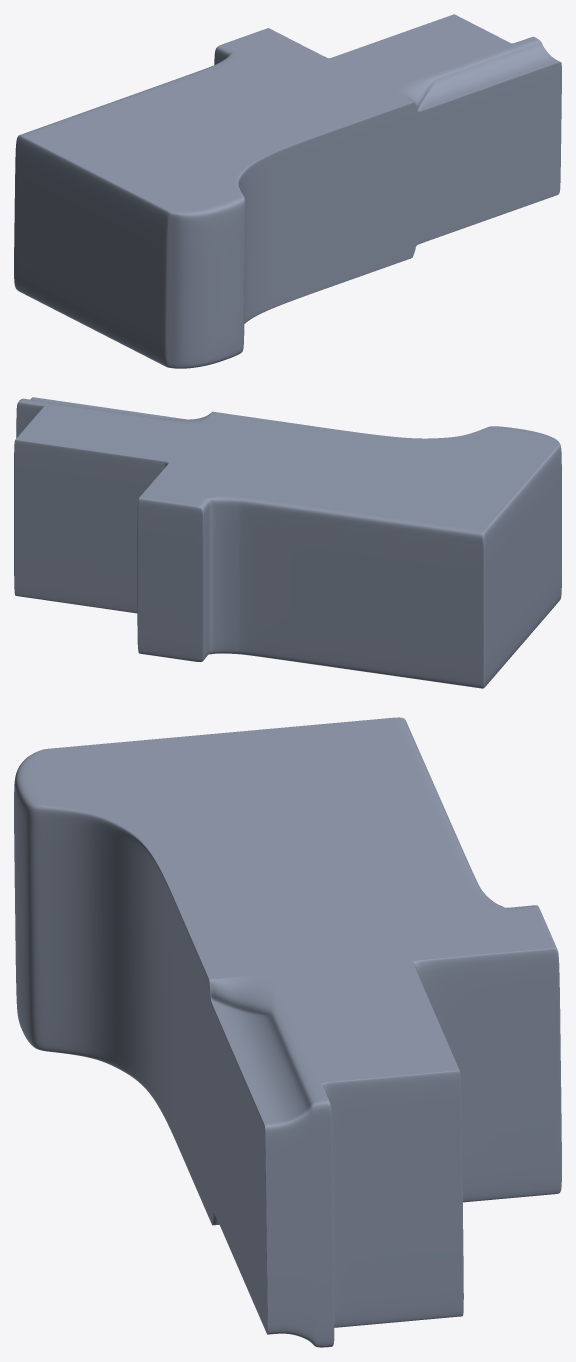
The picture shows the model from 3 angles, top to bottom: view 1: azimuth 30°, elevation 25°; view 2: azimuth 150°, elevation 25°; view 3: azimuth 270°, elevation 25°; orthographic projection. The views are drawn at different scales.
Visible parts, largest first — view 1: Cube.033; view 2: Cube.033; view 3: Cube.033.
Part boxes in pixels (x1,y1,x2,y2): Cube.033: (14,14,561,368); Cube.033: (14,397,561,688); Cube.033: (14,717,561,1347).
Size of the model in its own units: 0.0519 by 0.0158 by 0.031.
